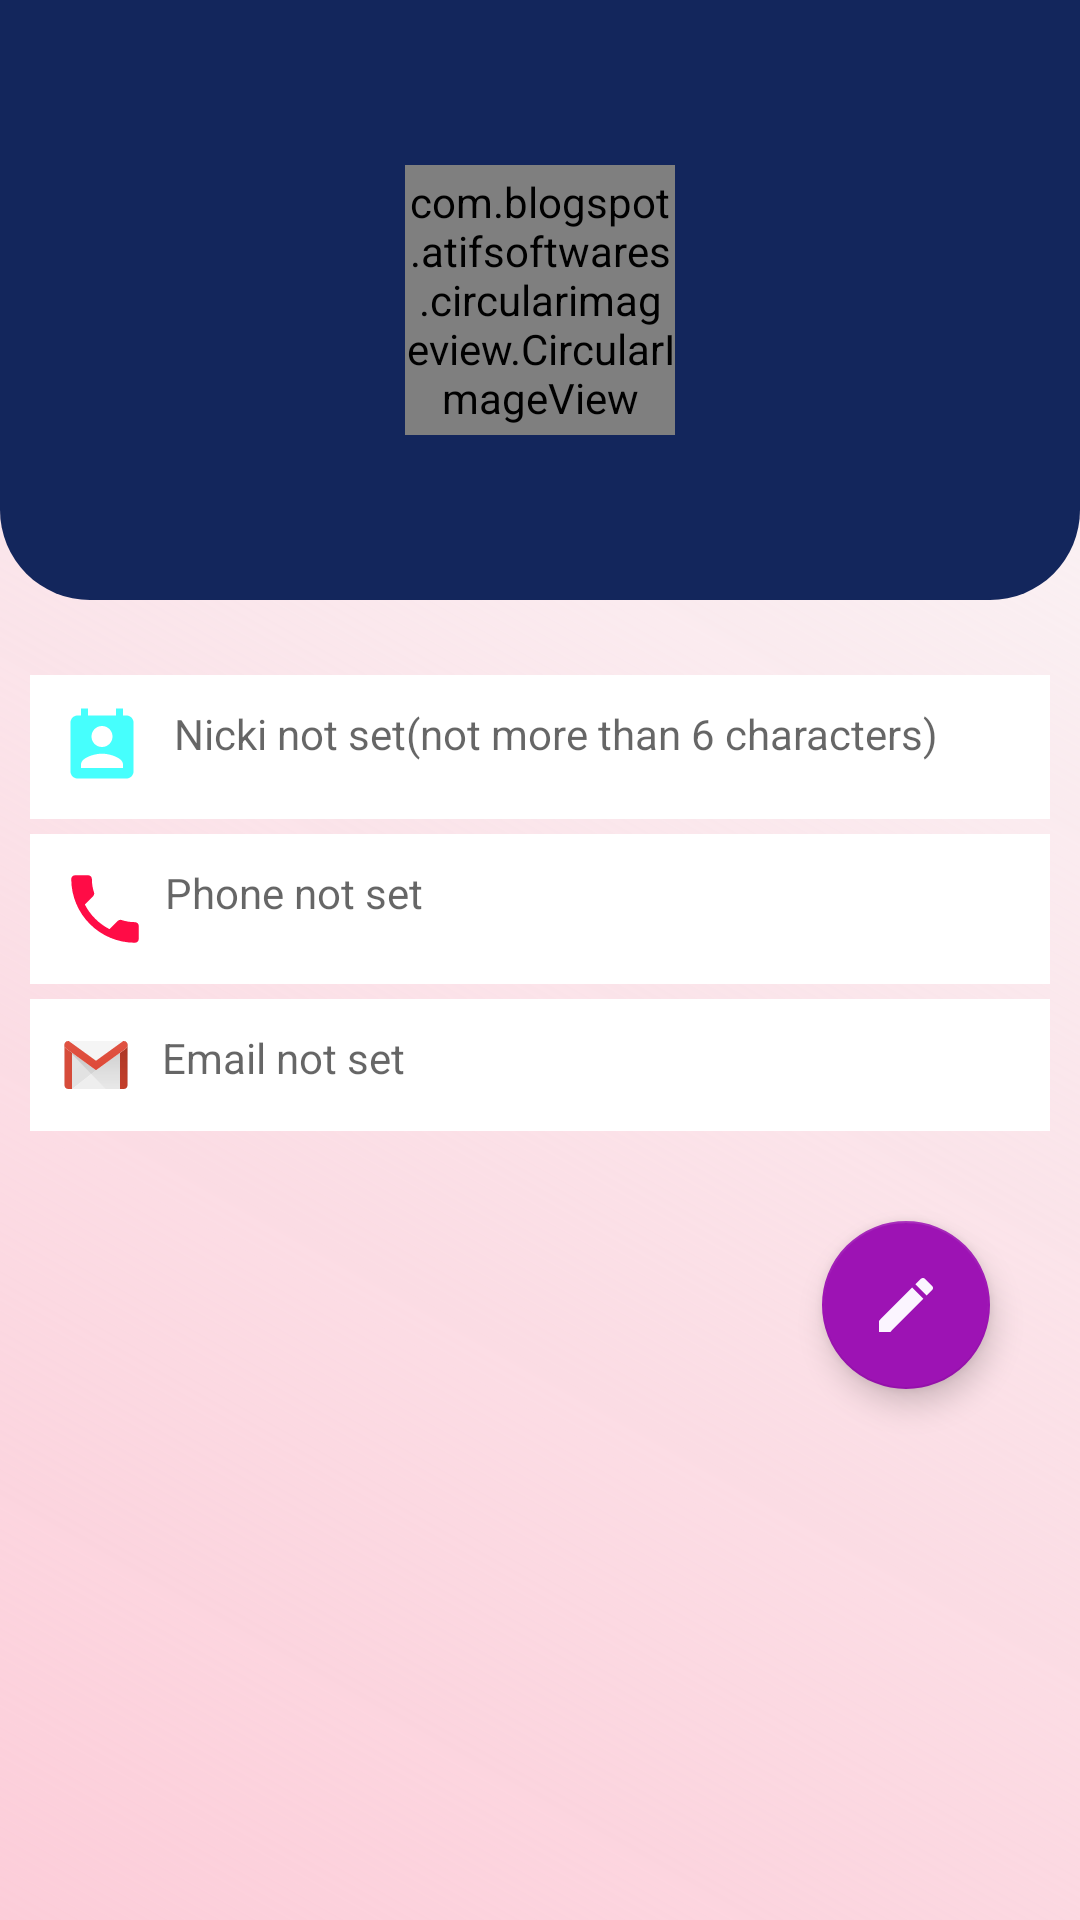

Icon click points for this 1080w x 1920h phone screenshot, format (x,y):
edit: (906,1305)
